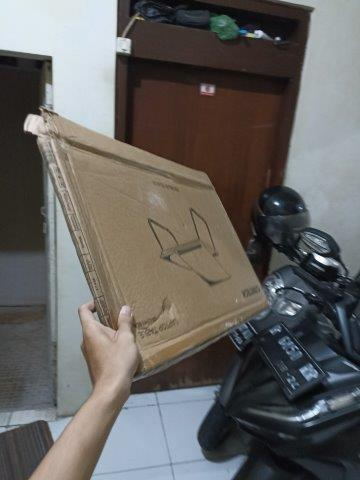kardus: (41, 110, 265, 370)
